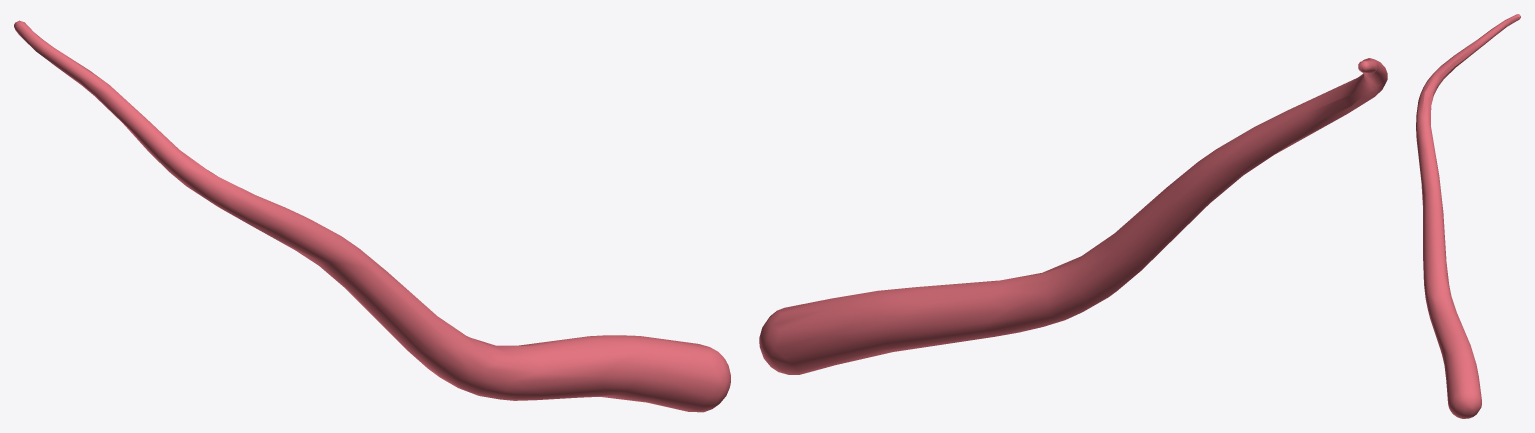
File: fma15420_fj3073.glb
3 views of the same model, side by side, from view 1: azimuth 30°, elevation 25°; view 2: azimuth 150°, elevation 25°; view 3: azimuth 270°, elevation 25° (orthographic). The views are drawn at different scales.
Visible parts, largest first — view 1: FMA15420_FJ3073; view 2: FMA15420_FJ3073; view 3: FMA15420_FJ3073.
Boxes of the visible parts, <box> form: FMA15420_FJ3073: <box>14,20,730,412</box>; FMA15420_FJ3073: <box>759,58,1387,374</box>; FMA15420_FJ3073: <box>1416,14,1520,418</box>.
Bounding box in the file's own units: 0.0653 × 0.0475 × 0.018.
